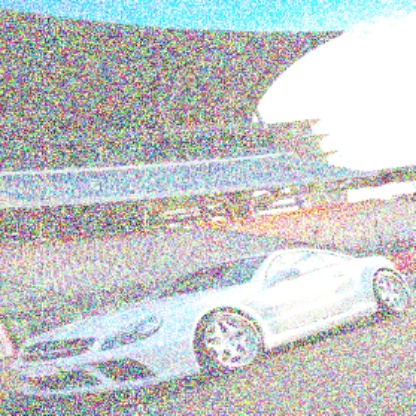Vehicle: (10, 247, 409, 405)
